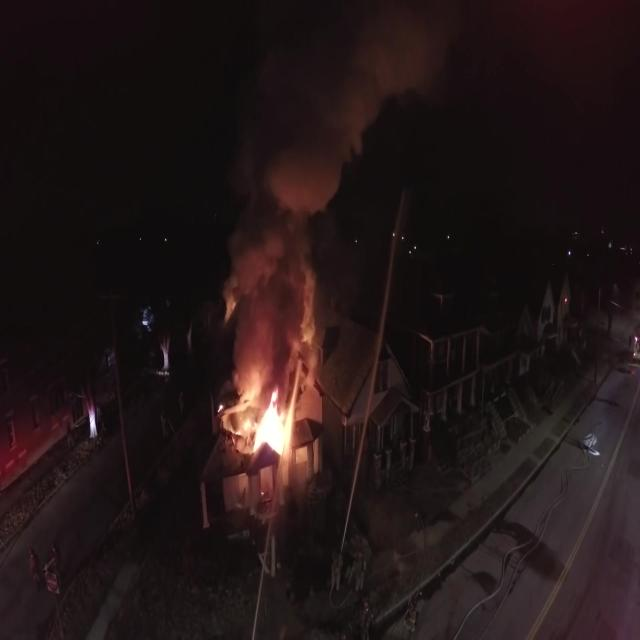smoke: (244, 243, 293, 381)
